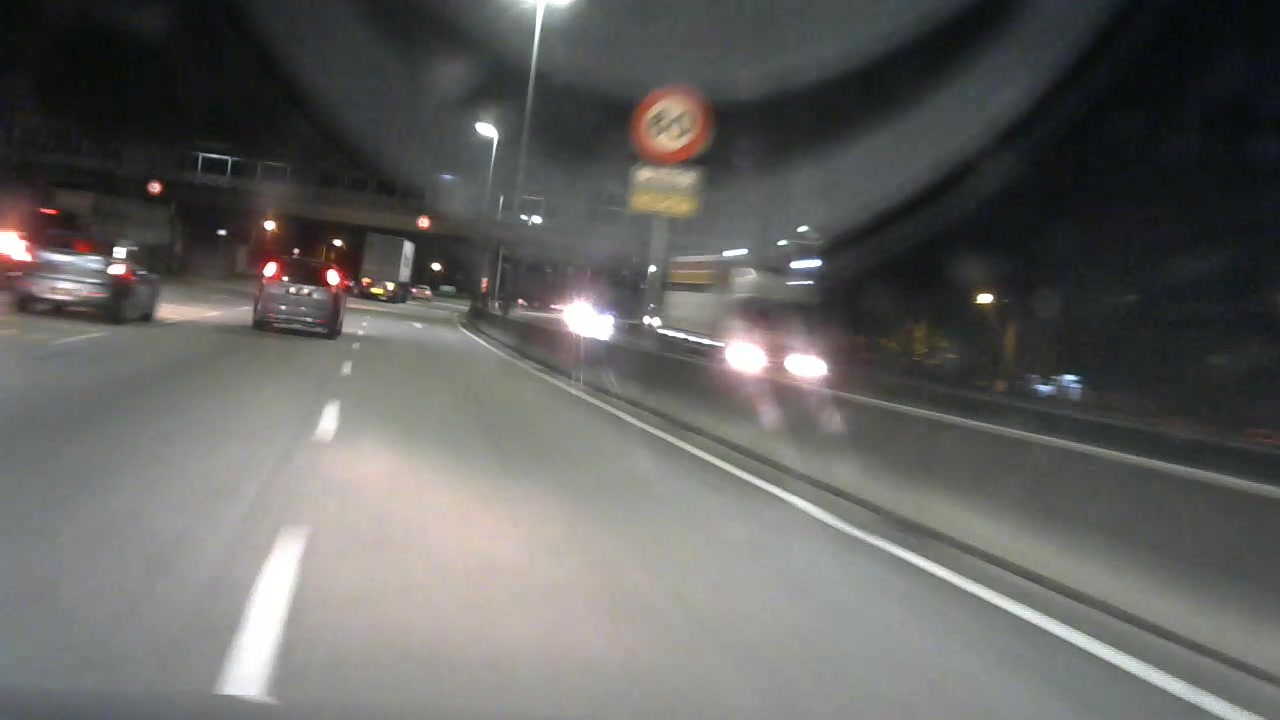Car: (10, 222, 168, 324), (249, 253, 350, 346), (403, 281, 438, 302), (365, 279, 394, 304)
